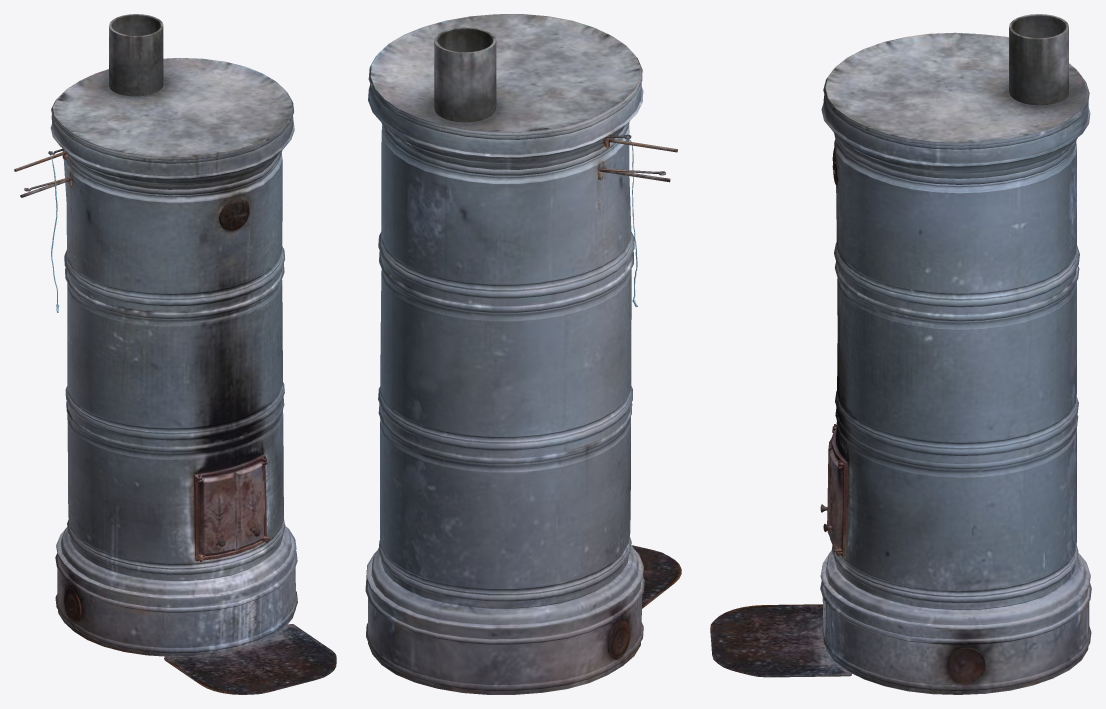
The model's file is stove-masonry.ba598c65.glb.
The picture shows the model from 3 angles, left to right: view 1: azimuth 30°, elevation 25°; view 2: azimuth 150°, elevation 25°; view 3: azimuth 270°, elevation 25°; orthographic projection. The views are drawn at different scales.
Visible parts, largest first — view 1: model; view 2: model; view 3: model.
Boxes of the visible parts, <box> form: model: <box>14,14,336,694</box>; model: <box>365,14,681,694</box>; model: <box>710,14,1091,694</box>.
Size of the model in its own units: 1.17 by 2.36 by 1.34.
1 material, 1 textured.
